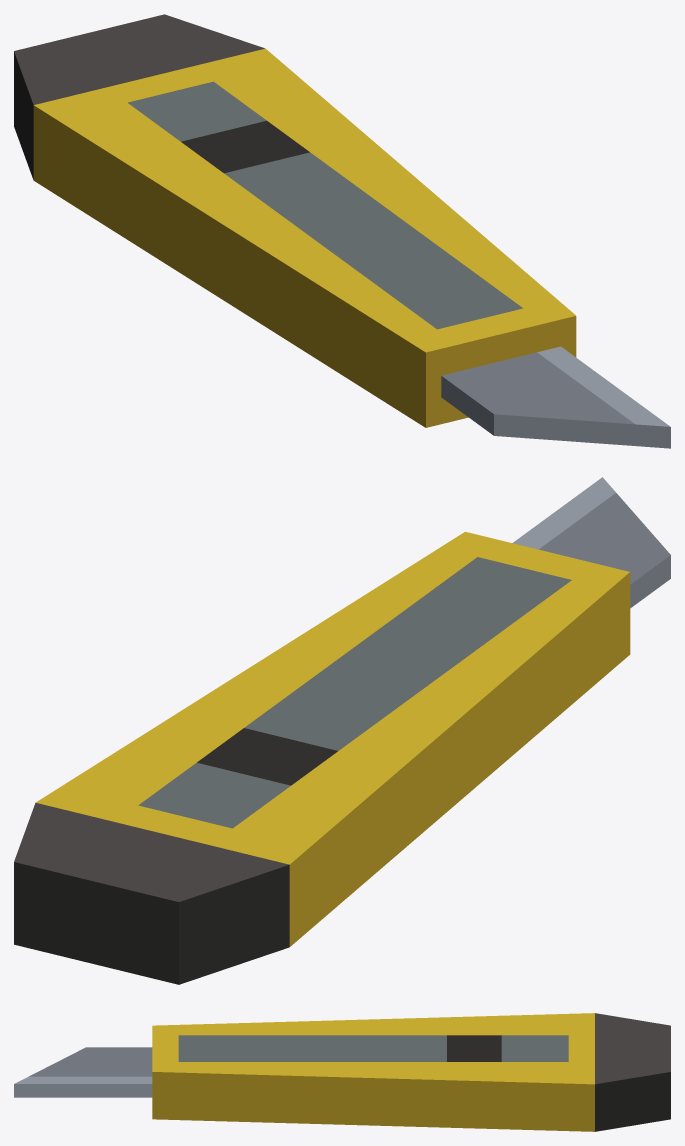
File: AI_Item_Boxcutter.fbx
3 renders of one model, top to bottom at view 1: azimuth 30°, elevation 25°; view 2: azimuth 150°, elevation 25°; view 3: azimuth 270°, elevation 25°, orthographic. The views are drawn at different scales.
Parts seen in each view (by area): view 1: AI_Item_Boxcutter; view 2: AI_Item_Boxcutter; view 3: AI_Item_Boxcutter.
Part boxes in pixels (x1,y1,x2,y2): AI_Item_Boxcutter: (14, 14, 670, 448); AI_Item_Boxcutter: (14, 477, 670, 984); AI_Item_Boxcutter: (14, 1013, 670, 1131).
Size of the model in its own units: 0.1799 by 0.0559 by 0.7007.
